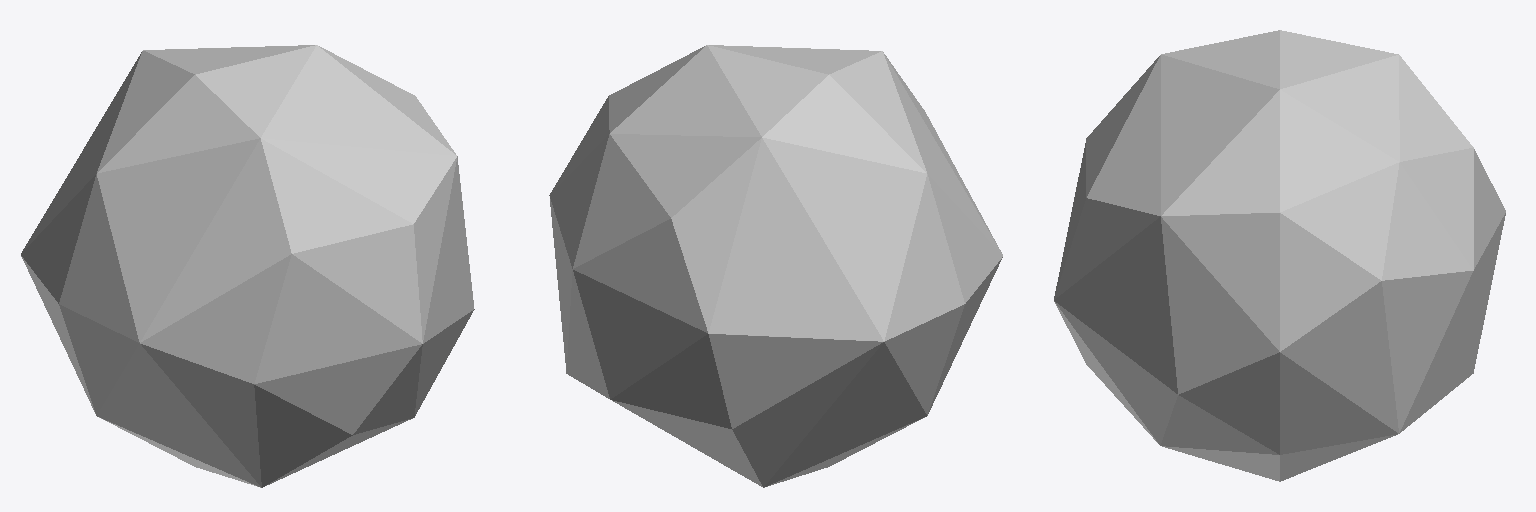
Rendered from tree_canopy.obj.
3 views of the same model, side by side, from view 1: azimuth 30°, elevation 25°; view 2: azimuth 150°, elevation 25°; view 3: azimuth 270°, elevation 25° (orthographic).
Parts seen in each view (by area): view 1: Icosphere; view 2: Icosphere; view 3: Icosphere.
Boxes of the visible parts, <box> form: Icosphere: <box>21,45,474,487</box>; Icosphere: <box>549,45,1002,487</box>; Icosphere: <box>1054,30,1505,481</box>.
Size of the model in its own units: 6 by 5.71 by 5.97.